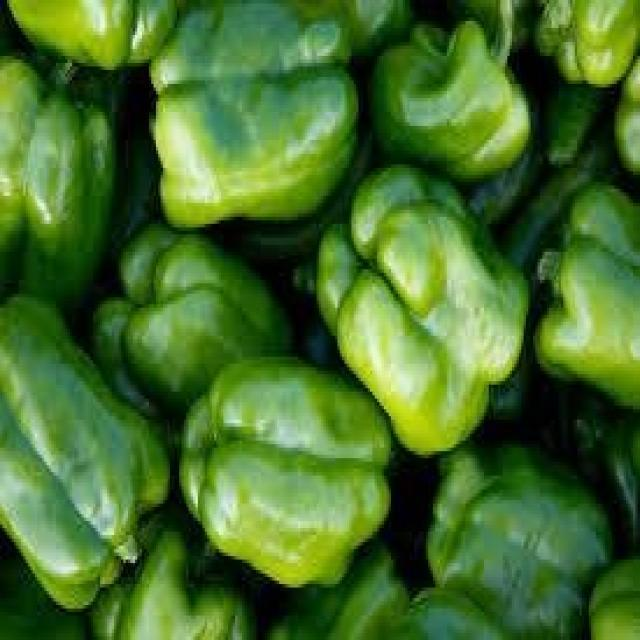bell_pepper: (314, 156, 534, 469), (172, 343, 399, 593), (86, 225, 300, 444)
